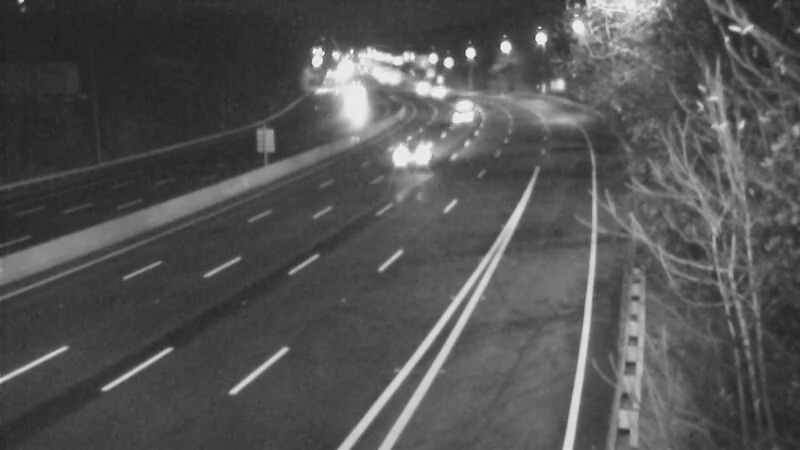vehicle: (377, 113, 457, 193), (396, 64, 446, 114), (413, 68, 463, 118), (435, 86, 485, 136), (326, 78, 376, 128)
